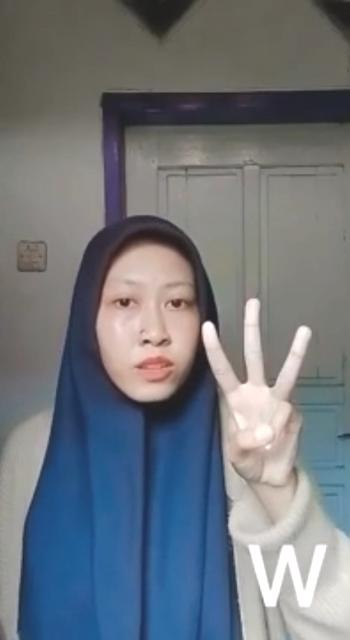W: (202, 295, 312, 489)
